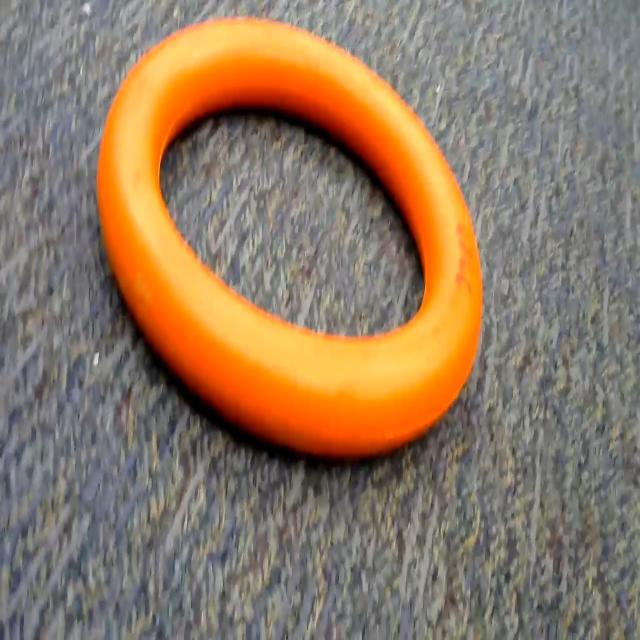note: (84, 5, 502, 485)
